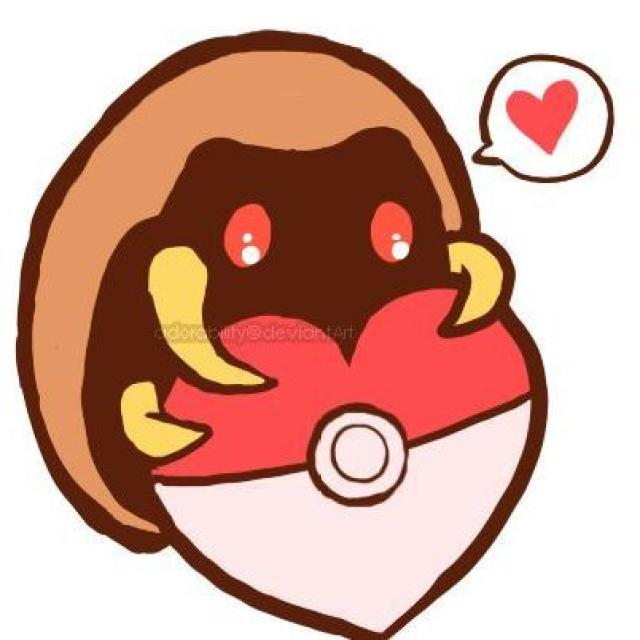Kabuto: (32, 21, 508, 565)
